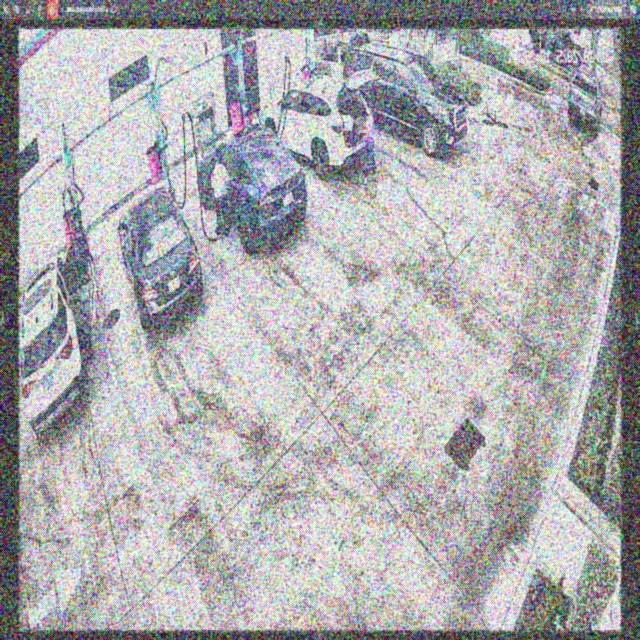Car: (342, 45, 469, 156), (197, 122, 305, 250), (261, 66, 374, 179), (117, 186, 203, 332)
